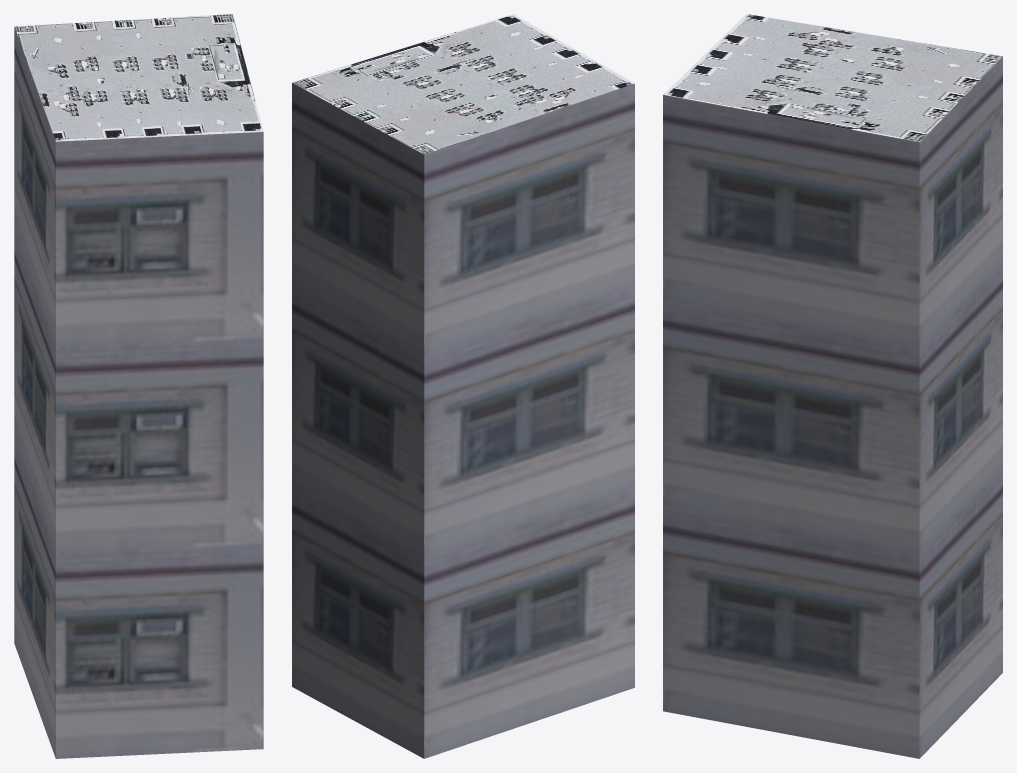
File: ResTex__2578.fbx
3 renders of one model, left to right at view 1: azimuth 30°, elevation 25°; view 2: azimuth 150°, elevation 25°; view 3: azimuth 270°, elevation 25°, orthographic. The views are drawn at different scales.
Parts seen in each view (by area): view 1: CityEngineMaterial_1_m, CityEngineMaterial_m; view 2: CityEngineMaterial_1_m, CityEngineMaterial_m; view 3: CityEngineMaterial_1_m, CityEngineMaterial_m.
Part boxes in pixels (box(x1,y1,x2,y2)): CityEngineMaterial_1_m: box(14, 27, 263, 758); CityEngineMaterial_m: box(14, 14, 263, 141); CityEngineMaterial_1_m: box(292, 83, 634, 758); CityEngineMaterial_m: box(292, 14, 634, 154); CityEngineMaterial_1_m: box(663, 56, 1002, 758); CityEngineMaterial_m: box(663, 14, 1002, 142).
Size of the model in its own units: 4.02 by 9 by 4.5.
Materials: 2 (2 with a texture image).
